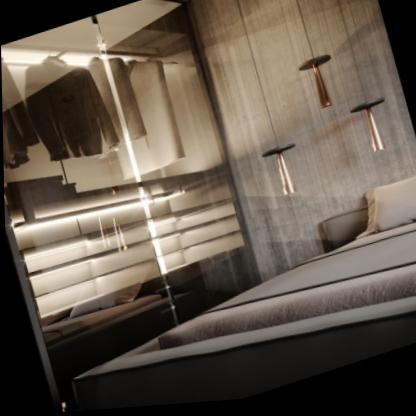Bed: (70, 185, 416, 412)
Transparent Closet: (1, 0, 266, 396)
Wall Panel: (182, 0, 416, 281)
